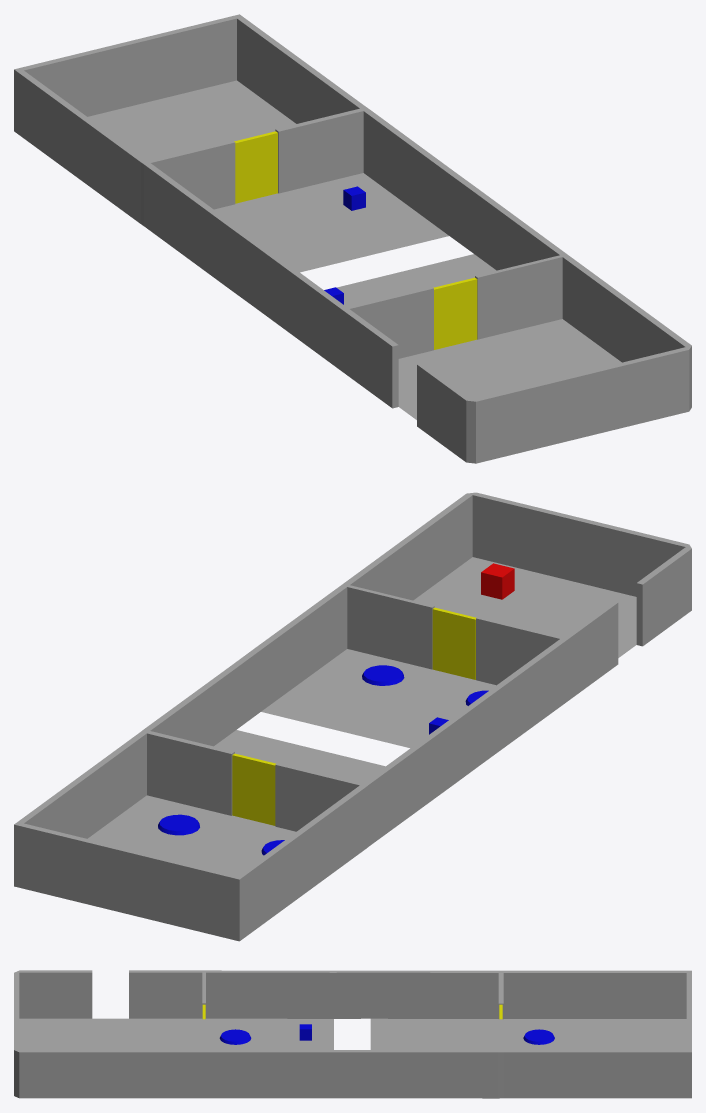
File: Demo_map_blockout.fbx
3 renders of one model, top to bottom at view 1: azimuth 30°, elevation 25°; view 2: azimuth 150°, elevation 25°; view 3: azimuth 270°, elevation 25°, orthographic. The views are drawn at different scales.
Parts seen in each view (by area): view 1: SM_DemoRooms, SM_Door2, SM_Door1; view 2: SM_DemoRooms, SM_Door1, SM_Door2, Enemy, SM_Trigger2, SM_Trigger4; view 3: SM_DemoRooms, SM_Trigger1, SM_Trigger3.
Part boxes in pixels (<box>): SM_DemoRooms: <box>14,14,691,463</box>; SM_Door2: <box>433,277,477,349</box>; SM_Door1: <box>234,131,277,203</box>; SM_DemoRooms: <box>14,492,691,941</box>; SM_Door1: <box>232,753,275,825</box>; SM_Door2: <box>432,607,476,679</box>; Enemy: <box>481,563,514,599</box>; SM_Trigger2: <box>158,814,199,835</box>; SM_Trigger4: <box>362,665,404,685</box>; SM_DemoRooms: <box>14,970,691,1098</box>; SM_Trigger1: <box>523,1029,554,1044</box>; SM_Trigger3: <box>219,1029,251,1044</box>.
Bounding box in the file's own units: 10.61 × 2.78 × 37.07.
